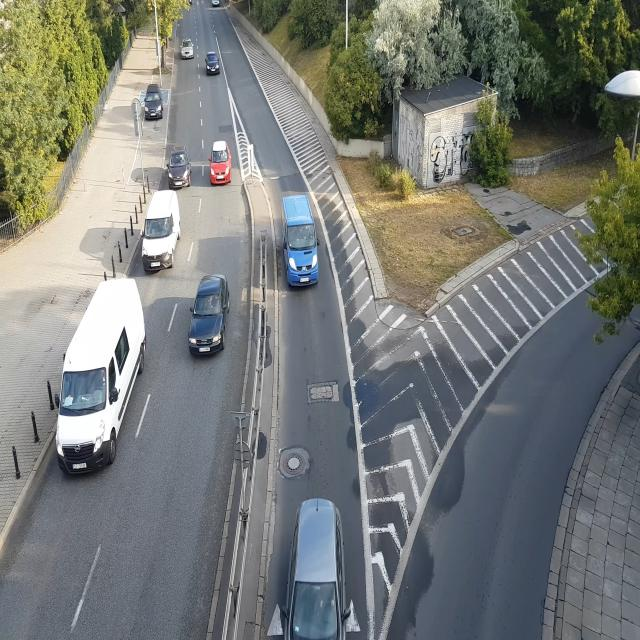car: (59, 280, 148, 476), (278, 494, 352, 640), (278, 192, 319, 288), (188, 275, 230, 359), (142, 190, 181, 274), (164, 147, 193, 190), (209, 144, 234, 184), (144, 90, 164, 120), (180, 40, 197, 61), (206, 52, 220, 74)
